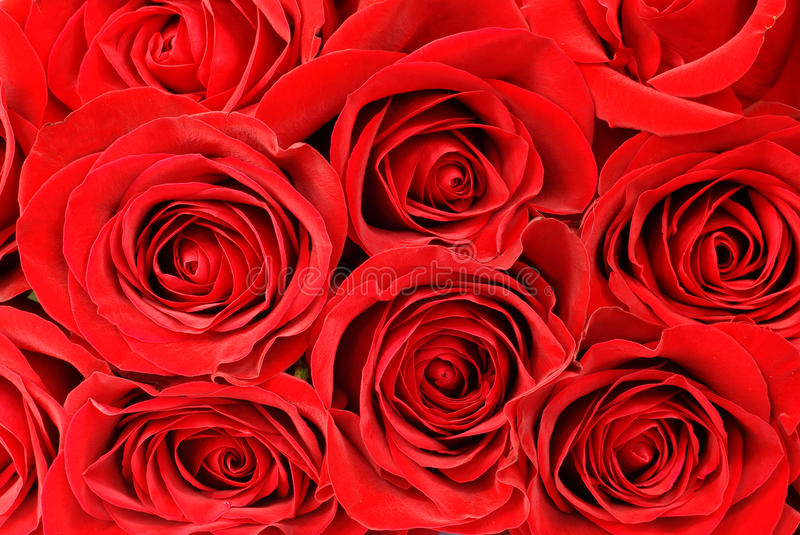RedRose: (27, 101, 313, 370), (342, 274, 557, 508), (584, 108, 800, 340), (332, 77, 549, 268), (73, 391, 342, 530), (564, 345, 766, 519), (78, 4, 316, 116)
